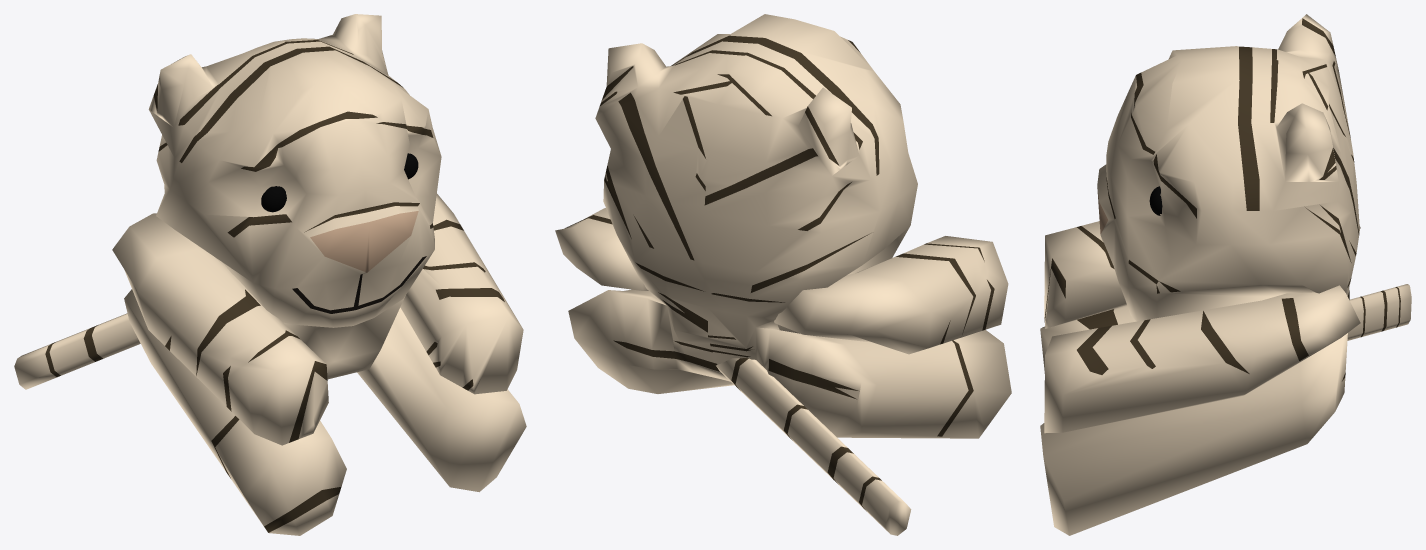
The model's file is tigey.fbx.
3 renders of one model, left to right at view 1: azimuth 30°, elevation 25°; view 2: azimuth 150°, elevation 25°; view 3: azimuth 270°, elevation 25°, orthographic. The views are drawn at different scales.
Visible parts, largest first — view 1: Tigey; view 2: Tigey; view 3: Tigey.
Part boxes in pixels (x1,y1,x2,y2): Tigey: [14, 14, 526, 535]; Tigey: [555, 14, 1011, 535]; Tigey: [1040, 14, 1411, 535].
Size of the model in its own units: 485 by 501 by 398.
